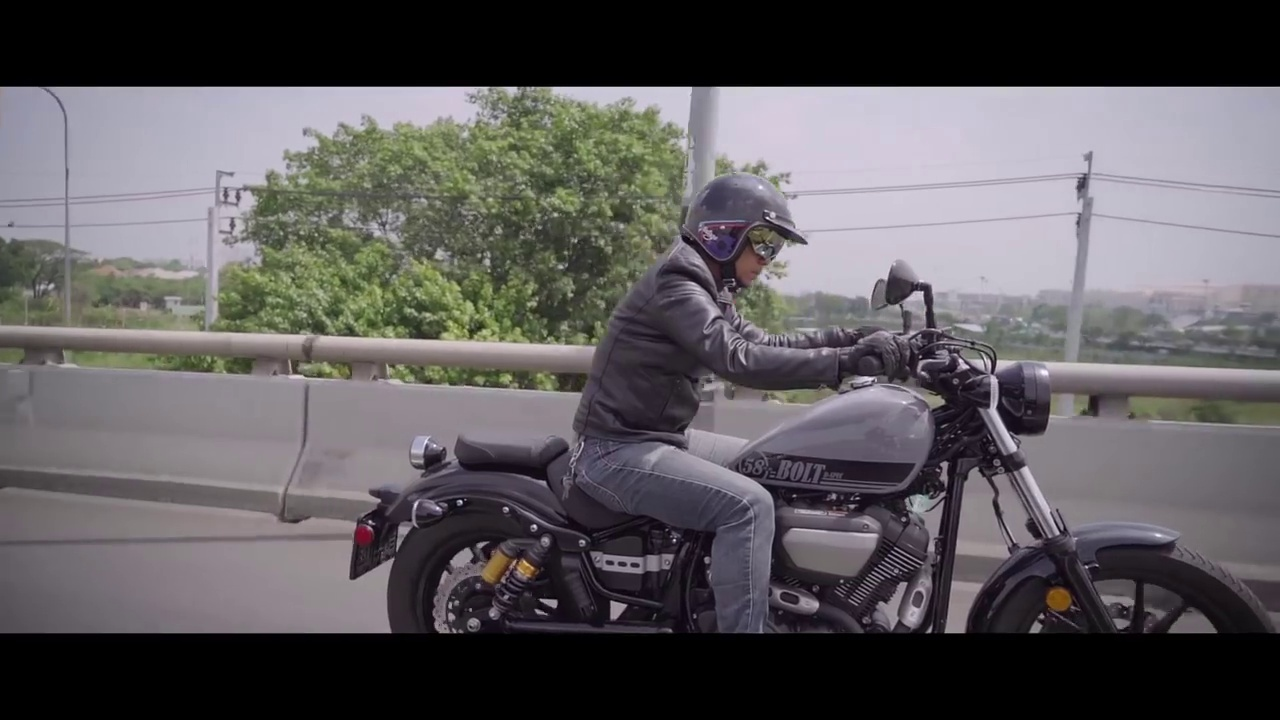helmet: (676, 169, 815, 270)
